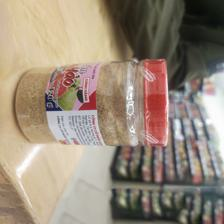Hao_hao: (14, 58, 172, 145)
